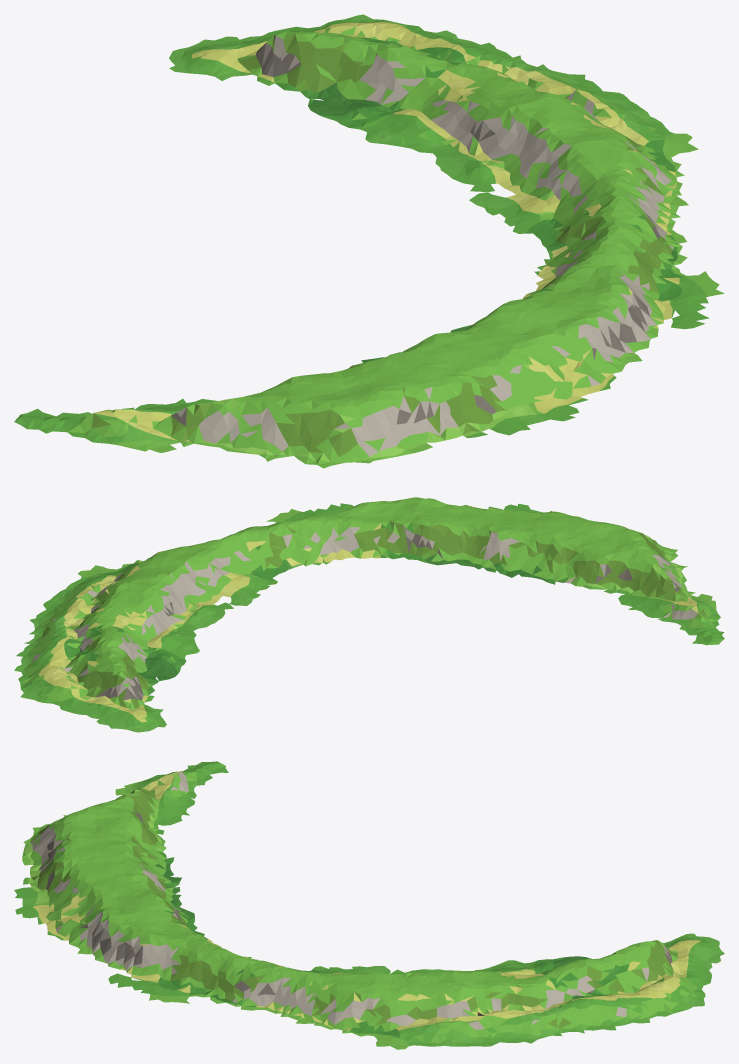
File: Isl-crescent6-Relief.fbx
3 renders of one model, top to bottom at view 1: azimuth 30°, elevation 25°; view 2: azimuth 150°, elevation 25°; view 3: azimuth 270°, elevation 25°, orthographic. The views are drawn at different scales.
Parts seen in each view (by area): view 1: Isl-crescent6-Relief-c21, Isl-crescent6-Relief-c22, Isl-crescent6-Relief-c11; view 2: Isl-crescent6-Relief-c21, Isl-crescent6-Relief-c22, Isl-crescent6-Relief-c11; view 3: Isl-crescent6-Relief-c21, Isl-crescent6-Relief-c22, Isl-crescent6-Relief-c11.
Part boxes in pixels (x1=…): Isl-crescent6-Relief-c21: x1=361, y1=116, x2=724, y2=440; Isl-crescent6-Relief-c22: x1=169, y1=14, x2=665, y2=178; Isl-crescent6-Relief-c11: x1=14, y1=359, x2=444, y2=468; Isl-crescent6-Relief-c21: x1=77, y1=497, x2=577, y2=617; Isl-crescent6-Relief-c22: x1=14, y1=574, x2=222, y2=732; Isl-crescent6-Relief-c11: x1=530, y1=516, x2=724, y2=645; Isl-crescent6-Relief-c21: x1=14, y1=844, x2=423, y2=1045; Isl-crescent6-Relief-c22: x1=420, y1=933, x2=724, y2=1046; Isl-crescent6-Relief-c11: x1=22, y1=761, x2=228, y2=870.
Size of the model in its own units: 87.34 by 4.01 by 91.06.
